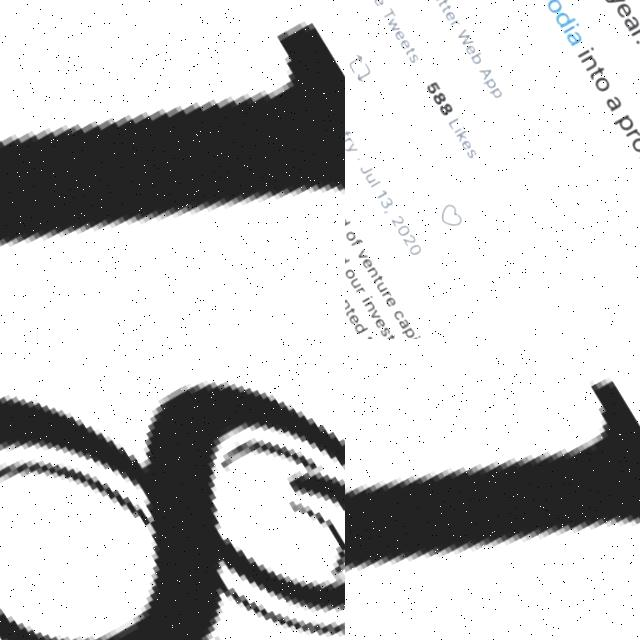0: (410, 234, 427, 250), (399, 214, 415, 230)
1: (377, 180, 392, 193)
2: (404, 223, 421, 241), (393, 204, 409, 221)
3: (381, 186, 398, 204)
5: (426, 71, 444, 88)
8: (0, 339, 345, 640), (432, 81, 450, 100), (439, 92, 457, 109)
I: (0, 10, 345, 241), (345, 363, 640, 566)
